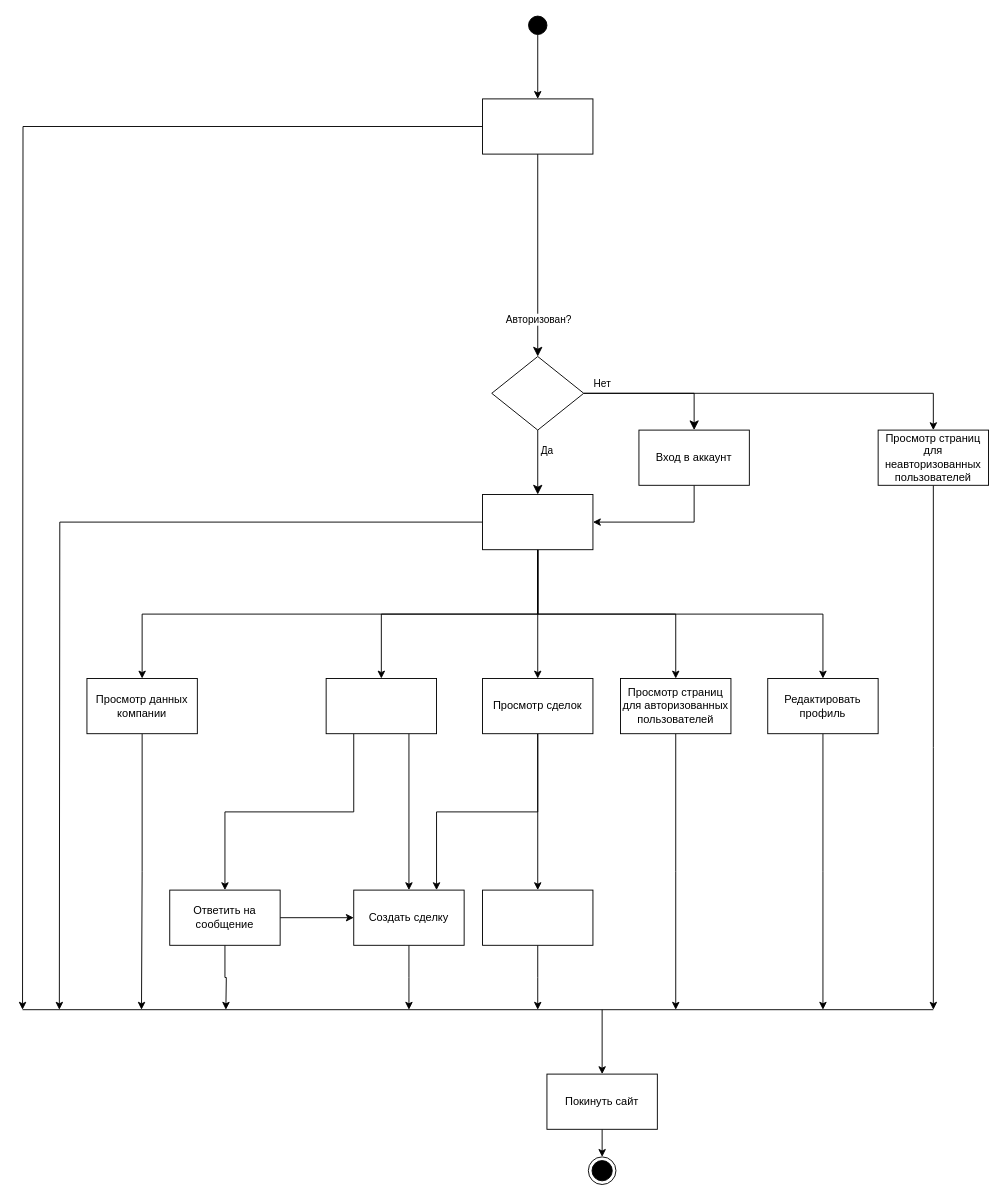
The diagram is 1005 pixels wide and 1201 high, and some of its shapes have lost their labels. The box of each missing label's shape, as (x1, y1, x2, y2) in pixels:
Авторизация: (482, 494, 593, 550)
Изменить статус сделки на доступный оператору: (482, 889, 593, 945)
Открыть сайт: (482, 98, 593, 154)
Просмотреть диалоги с клиентами: (325, 678, 437, 734)
